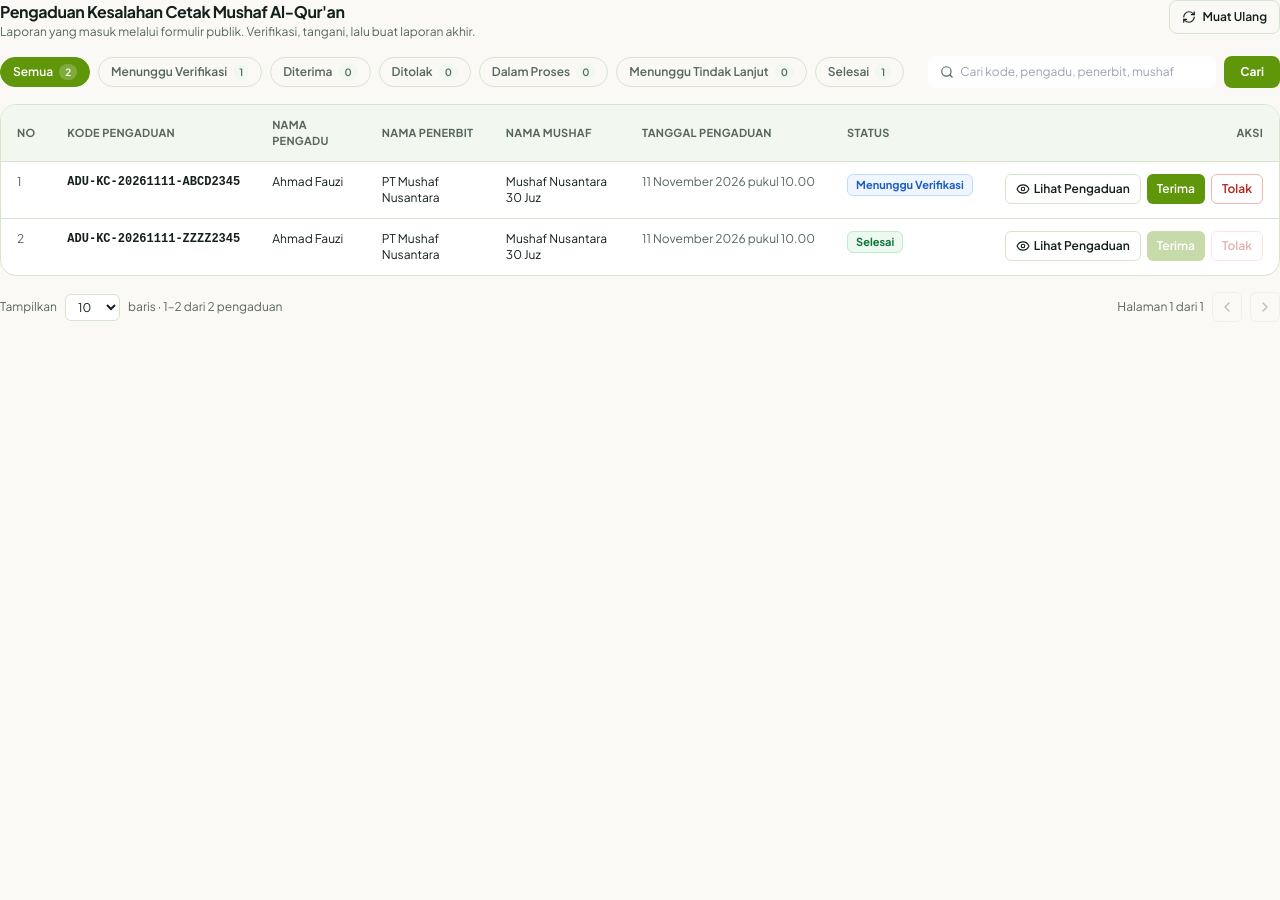
Test: ComplaintManagement › meminta konfirmasi sebelum menerima pengaduan
Click the button with aria-label "Terima pengaduan ADU-KC-20261111-ABCD2345".
click(1176, 189)  # box [1147, 174, 1205, 204]
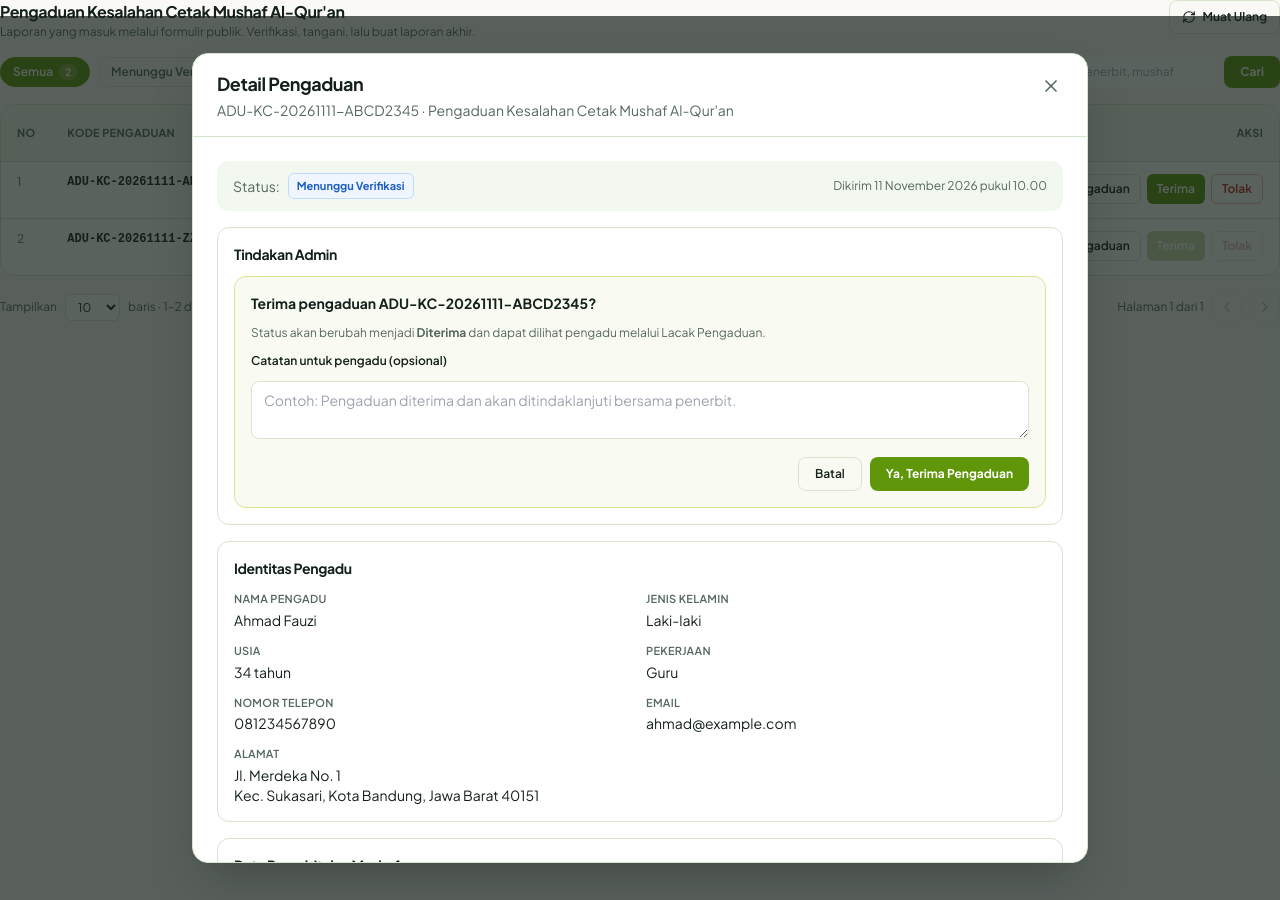
Click the button "Ya, Terima Pengaduan".
click(949, 474)  # box [870, 457, 1029, 491]
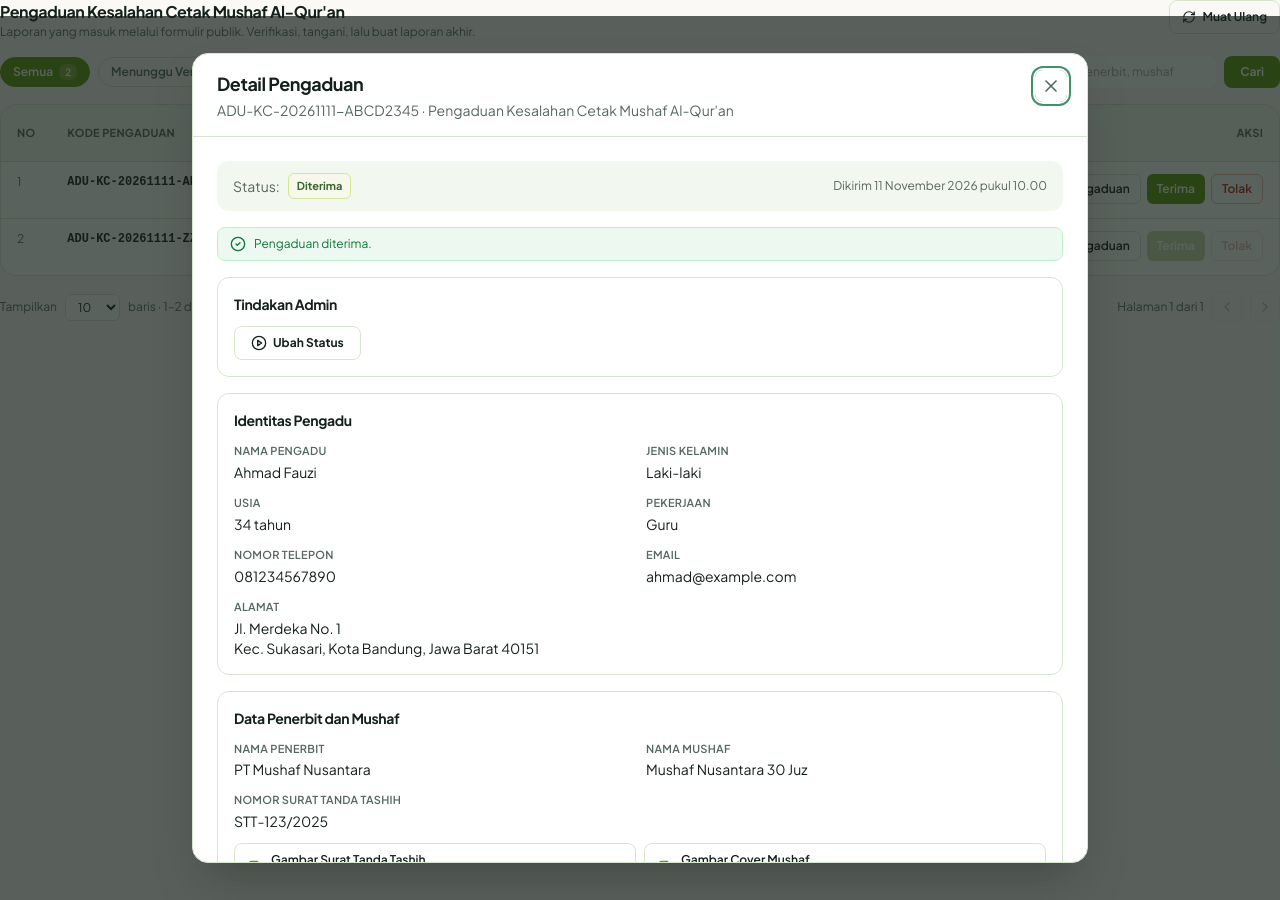
Expected: the message reads "Pengaduan diterima.", [254, 236, 372, 251]
Expected: the button "Ubah Status" is shown, [234, 326, 361, 360]
